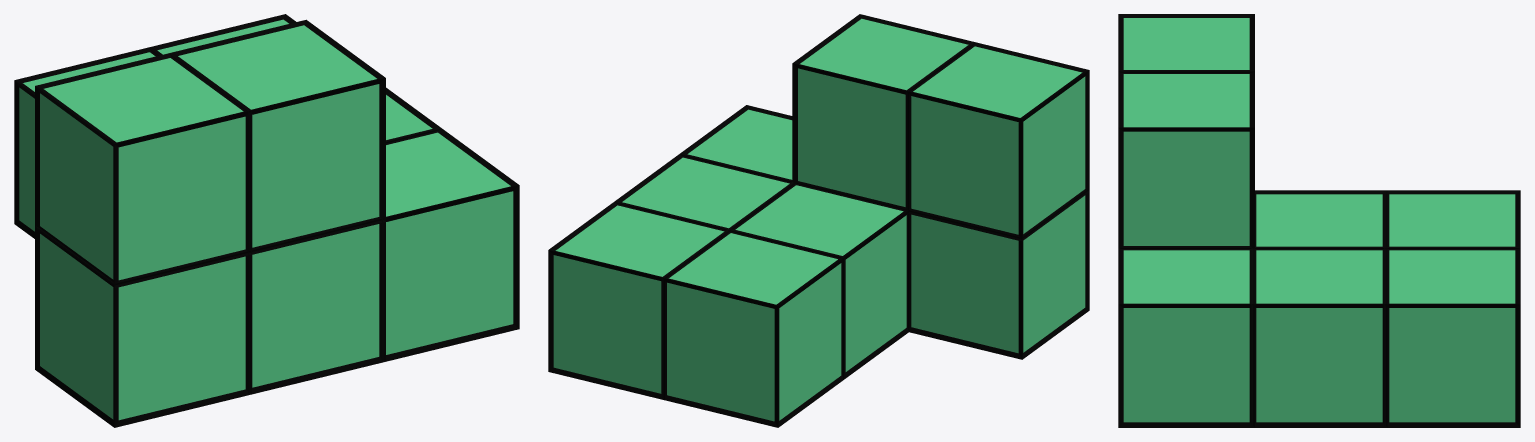
3 views of the same model, side by side, from view 1: azimuth 30°, elevation 25°; view 2: azimuth 150°, elevation 25°; view 3: azimuth 270°, elevation 25° (orthographic). The views are drawn at different scales.
Parts seen in each view (by area): view 1: d4:Mesh; view 2: d4:Mesh; view 3: d4:Mesh.
Boxes of the visible parts, x1,y1,x2,y2 form: d4:Mesh: (14, 14, 519, 427); d4:Mesh: (548, 14, 1089, 427); d4:Mesh: (1118, 14, 1520, 427).
Bounding box in the file's own units: 6.06 × 4.06 × 6.06.
